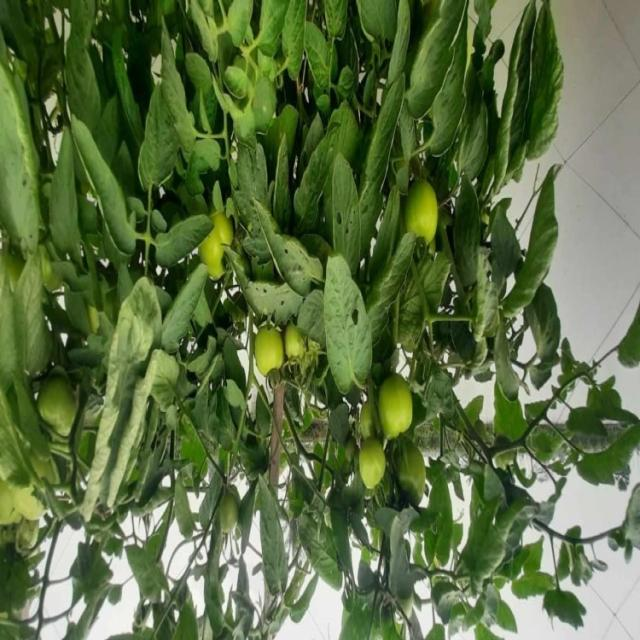tomato: (401, 176, 450, 252), (371, 374, 418, 445), (211, 483, 260, 544), (199, 210, 234, 285), (356, 440, 395, 502), (37, 379, 77, 431), (281, 316, 313, 373), (243, 330, 278, 381)
